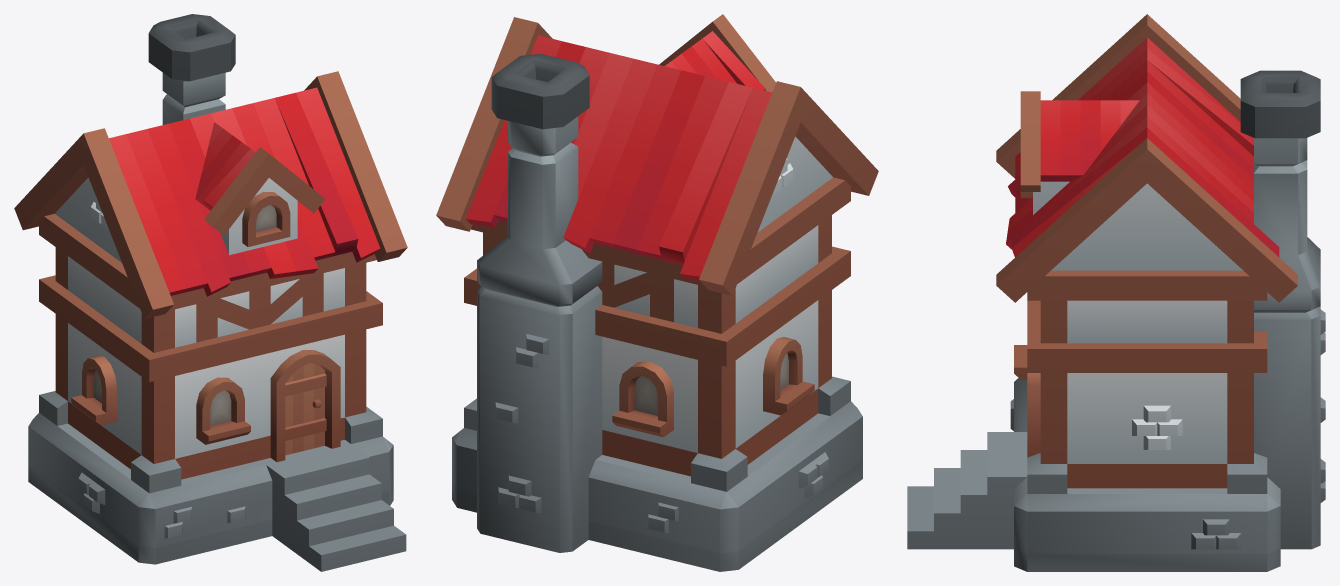
Rendered from house_b.glb.
The picture shows the model from 3 angles, left to right: view 1: azimuth 30°, elevation 25°; view 2: azimuth 150°, elevation 25°; view 3: azimuth 270°, elevation 25°; orthographic projection. The views are drawn at different scales.
Parts seen in each view (by area): view 1: building_home_B_red_body, building_home_B_red_roof; view 2: building_home_B_red_body, building_home_B_red_roof; view 3: building_home_B_red_body, building_home_B_red_roof.
Part boxes in pixels (bbox=[...]): building_home_B_red_body: bbox=[14, 14, 407, 571]; building_home_B_red_roof: bbox=[109, 87, 380, 296]; building_home_B_red_body: bbox=[436, 14, 878, 571]; building_home_B_red_roof: bbox=[466, 31, 772, 280]; building_home_B_red_body: bbox=[907, 14, 1325, 571]; building_home_B_red_roof: bbox=[1006, 37, 1279, 257].
Size of the model in its own units: 0.8749 by 1.28 by 1.1.
1 material, 1 textured.
